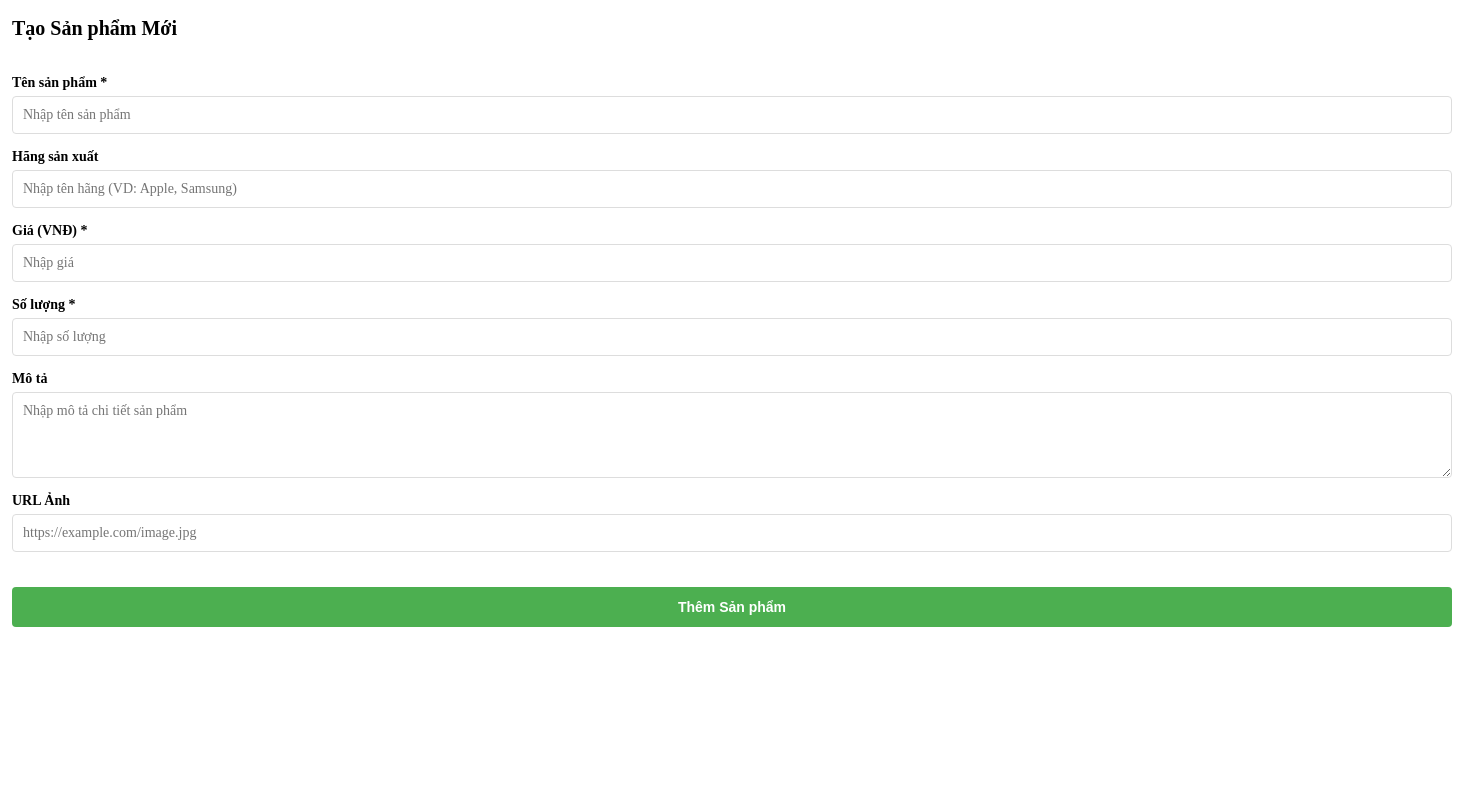
Test: Product Component Integration Tests › Tạo sản phẩm mới thành công
In the field labelled "Tên sản phẩm *": (732, 115) [12,96,1452,134], type "Laptop Dell"
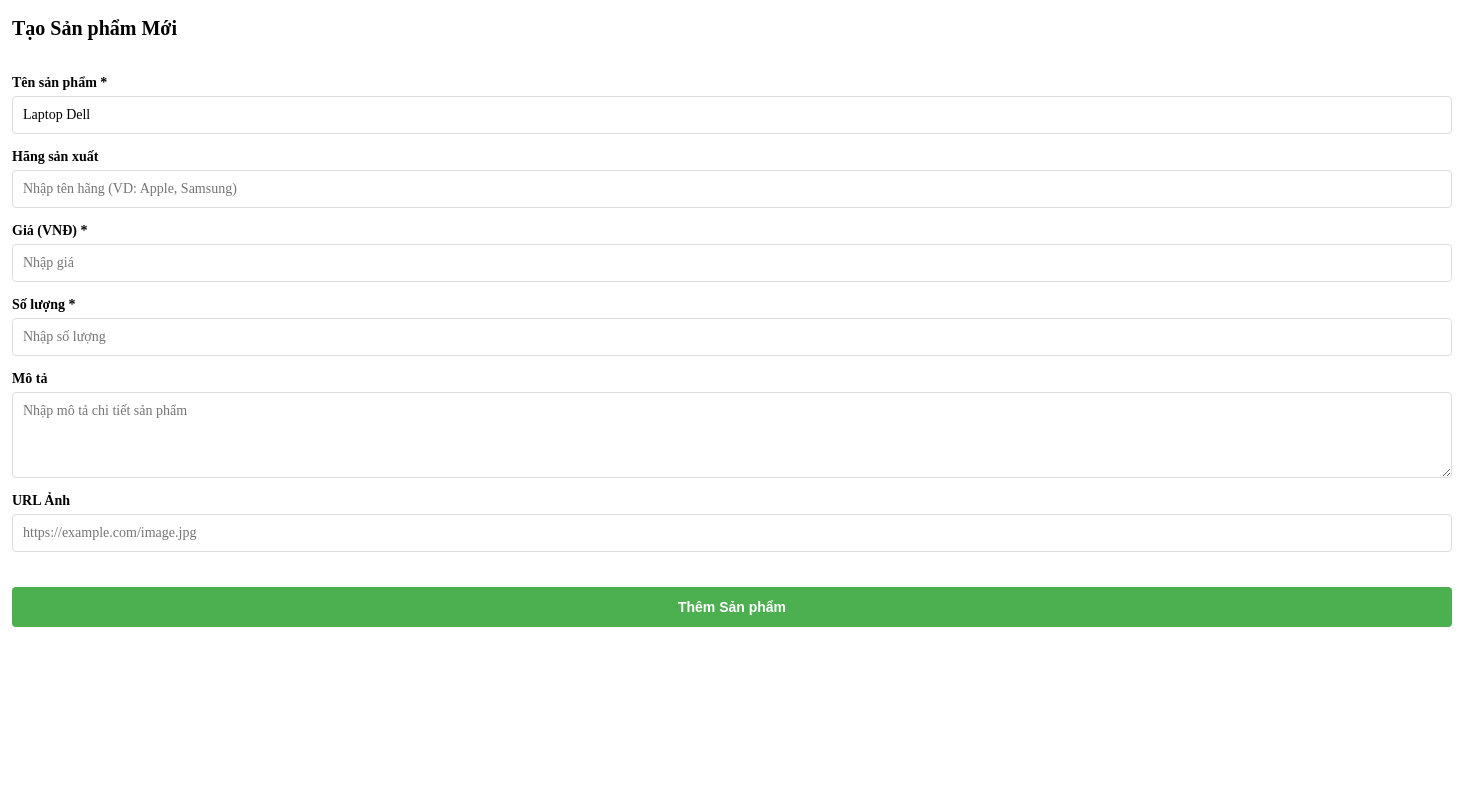
In the number field labelled "Giá (VNĐ) *": (732, 263) [12,244,1452,282], type "15000000"
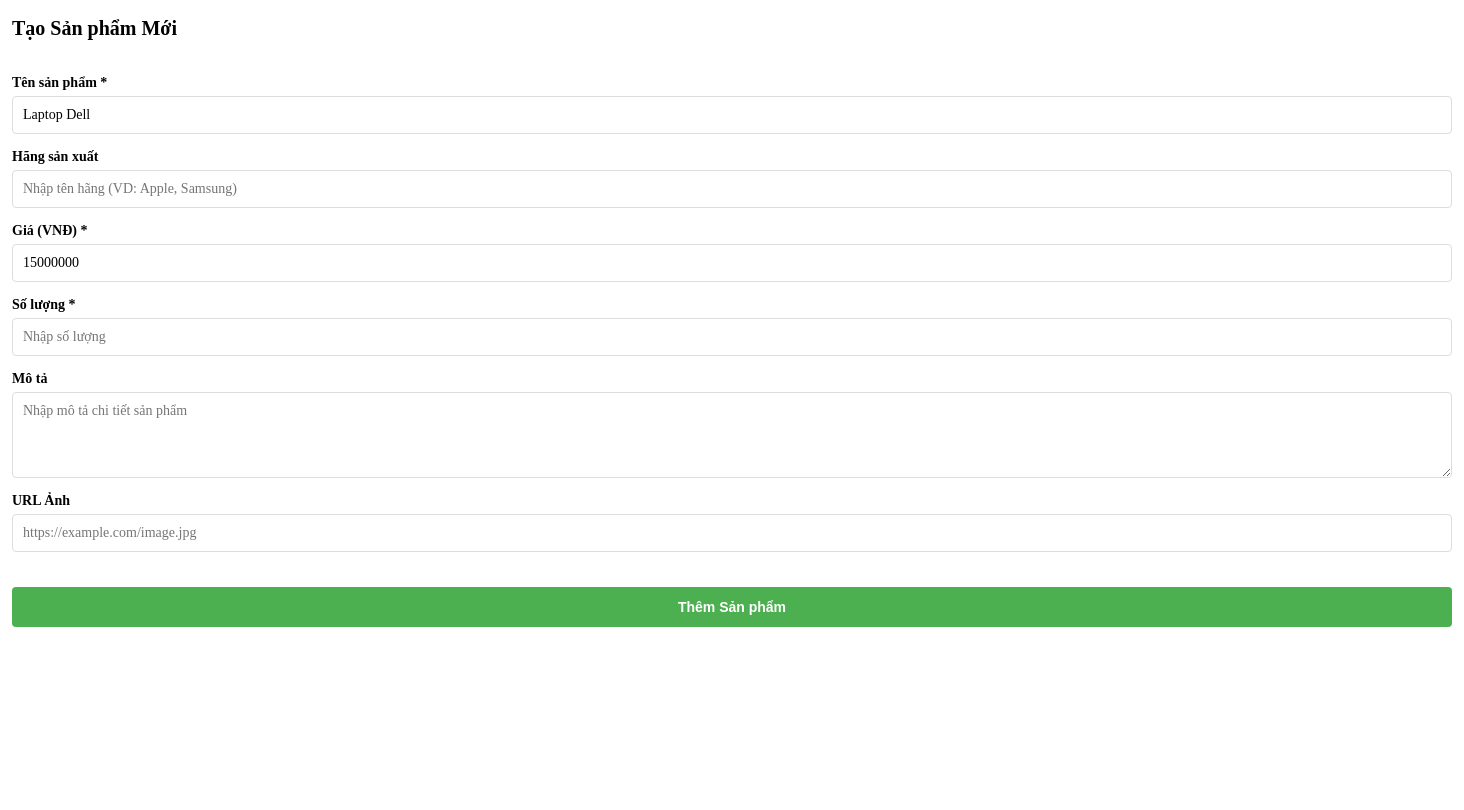
In the number field labelled "Số lượng *": (732, 337) [12,318,1452,356], type "10"
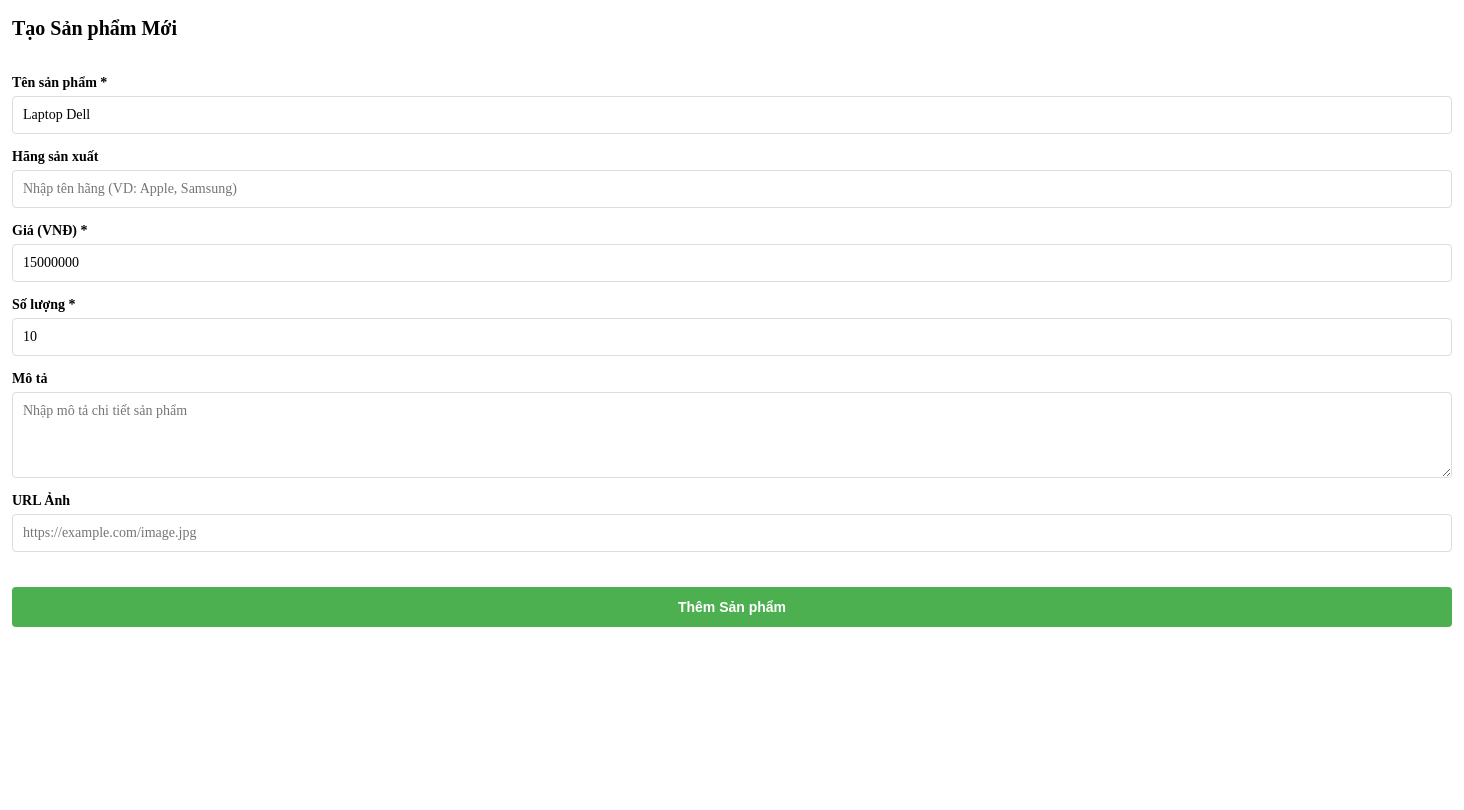
Click the button "Thêm Sản phẩm": (732, 607) [12,587,1452,627]
Wait 1000 ms
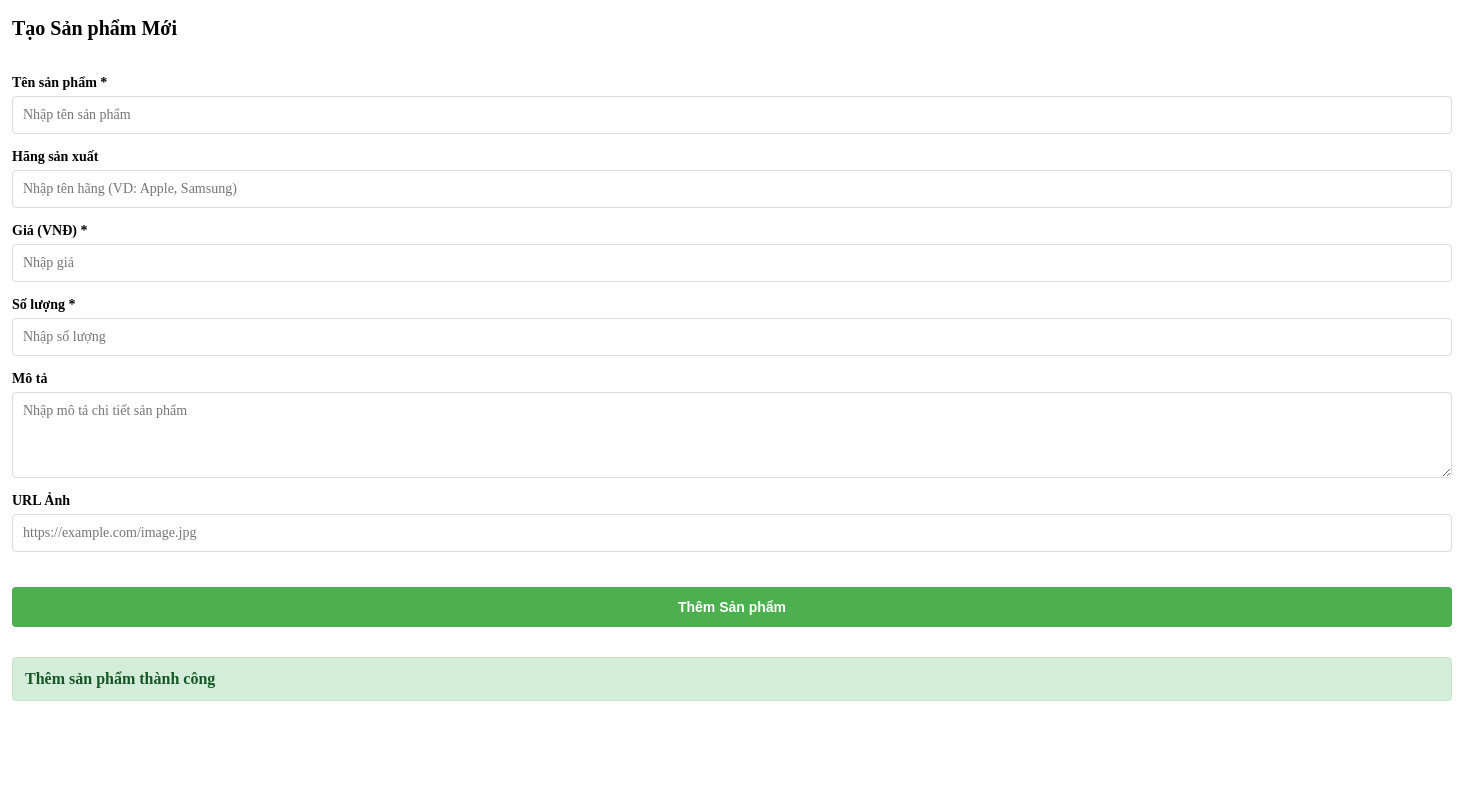
Now the text "Thêm sản phẩm thành công" is shown, box [12,657,1452,701]
